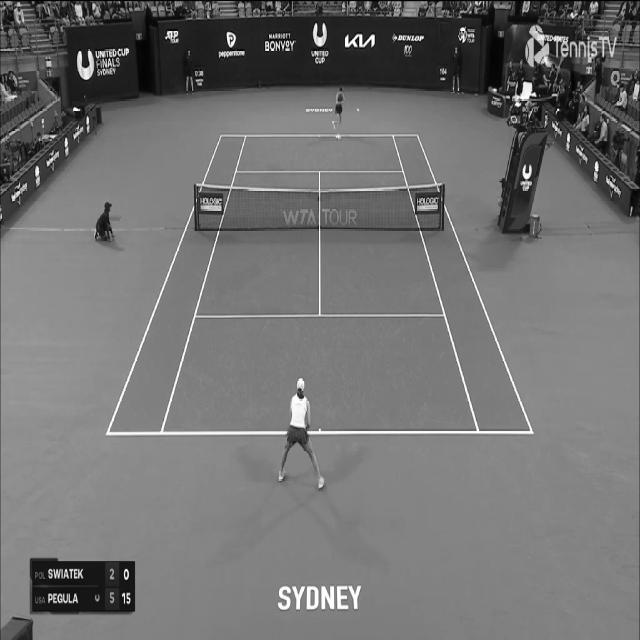tennis-court: (105, 134, 535, 436)
